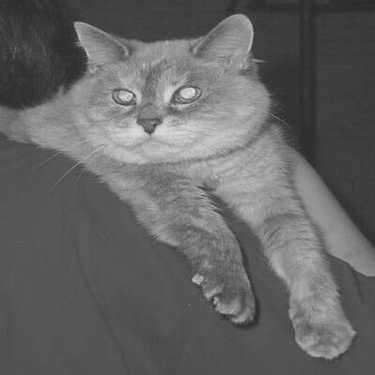cat: (69, 12, 357, 364)
